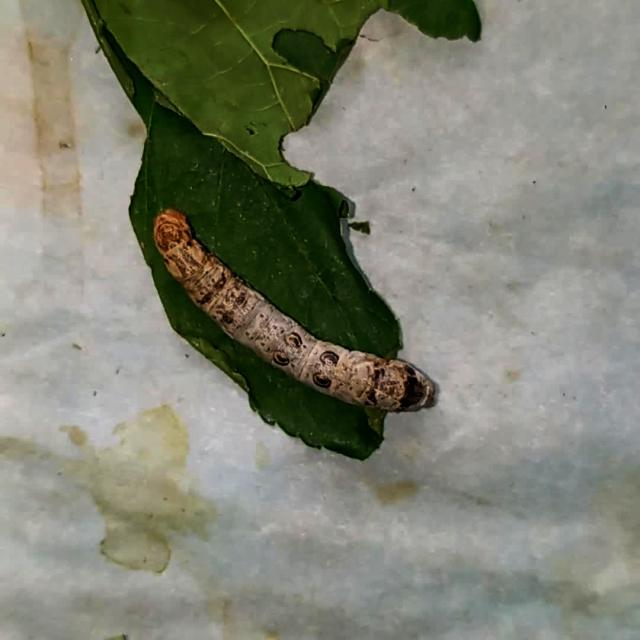Grasserie: (144, 196, 440, 420)
